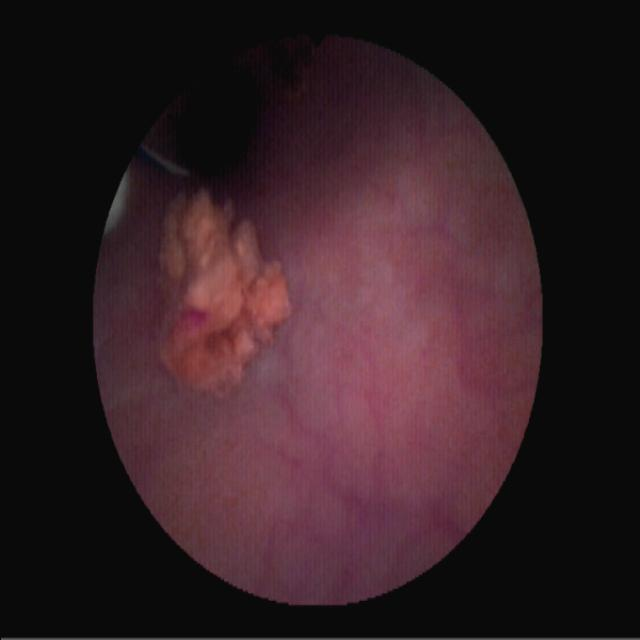stone: (157, 192, 285, 387)
tissue: (97, 46, 534, 591)
